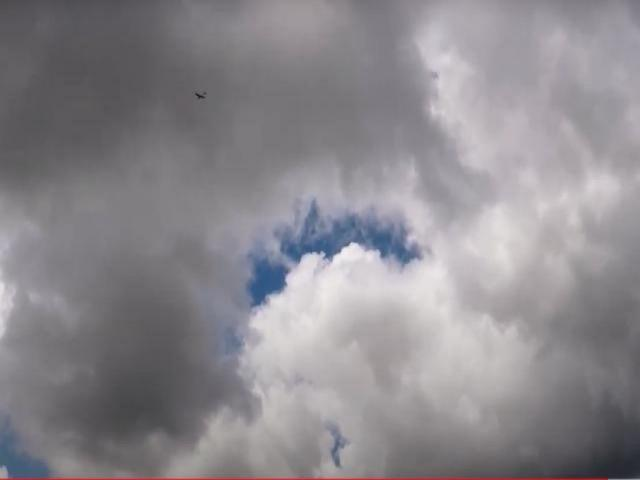iha: (192, 89, 209, 103)
